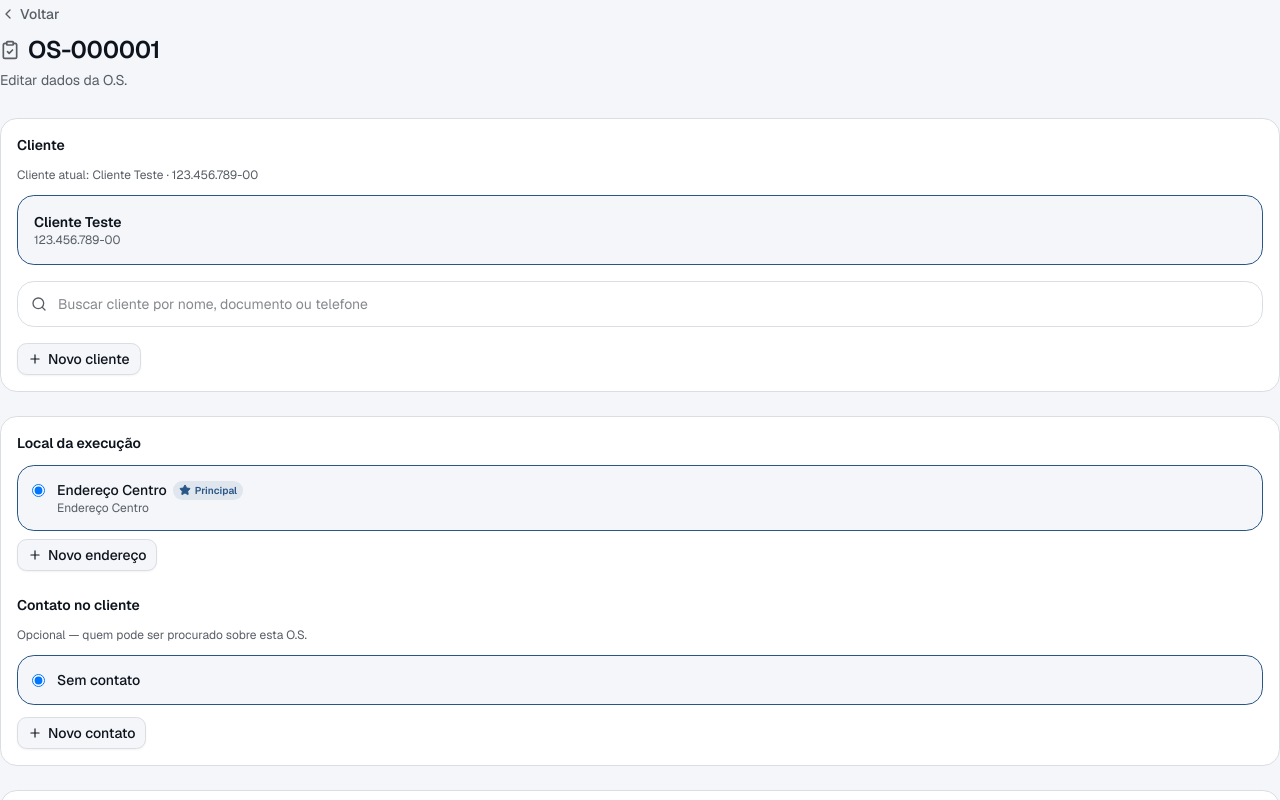
it: ServiceOrderEdit › Customer-detail ordering guarantees (bug #3 hardening) › CDO2: selecting C right after B (before B resolves) applies only C — B resolving after is discarded
expect the radio button labelled "Endereço Centro Principal Endereço Centro" is shown: met, box top-left (32, 484), bottom-right (45, 497)
Type "Cliente" into the dropdown labelled "Buscar cliente por nome, documento ou telefone". click: (640, 304)
box: top-left (17, 281), bottom-right (1263, 327)
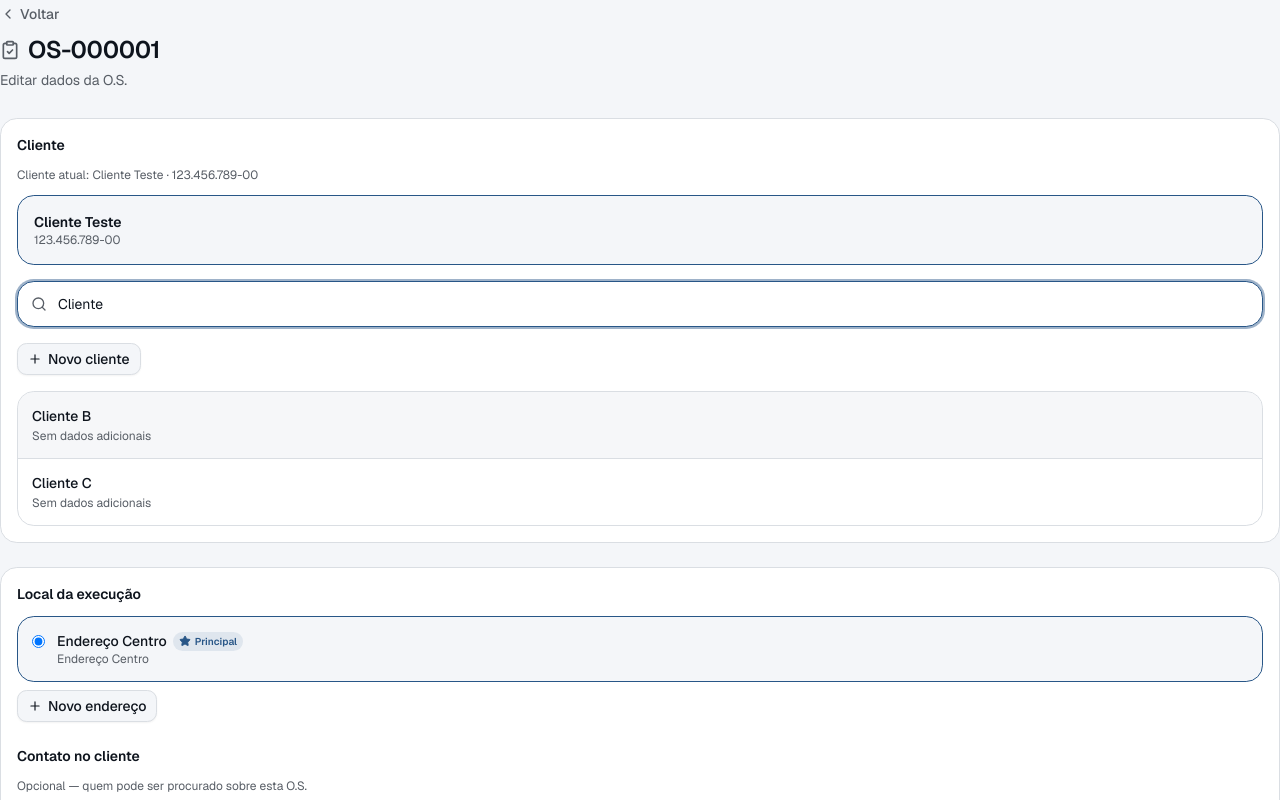
expect the text "Cliente B" is shown: met
Click the text "Cliente B". click: (62, 416)
box: top-left (32, 406), bottom-right (91, 426)
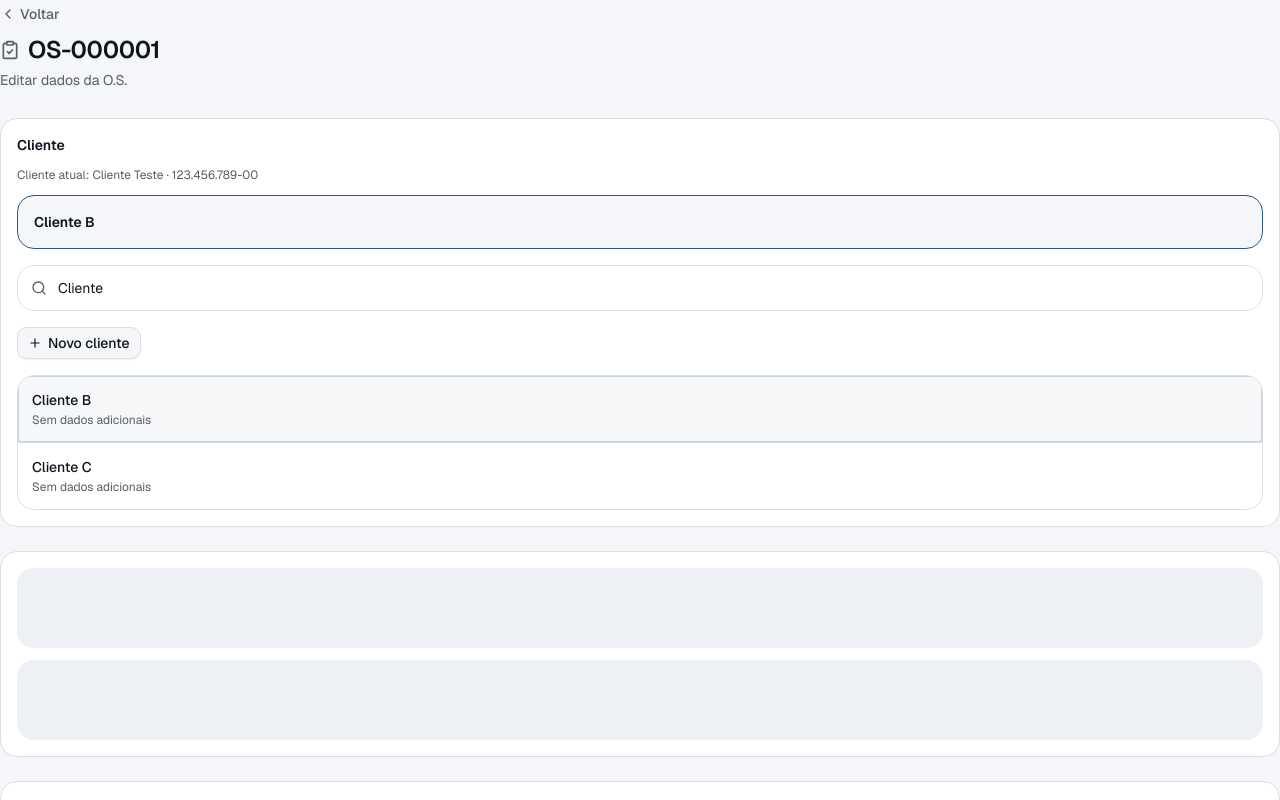
Click the text "Cliente C". click: (62, 467)
box: top-left (32, 457), bottom-right (92, 477)
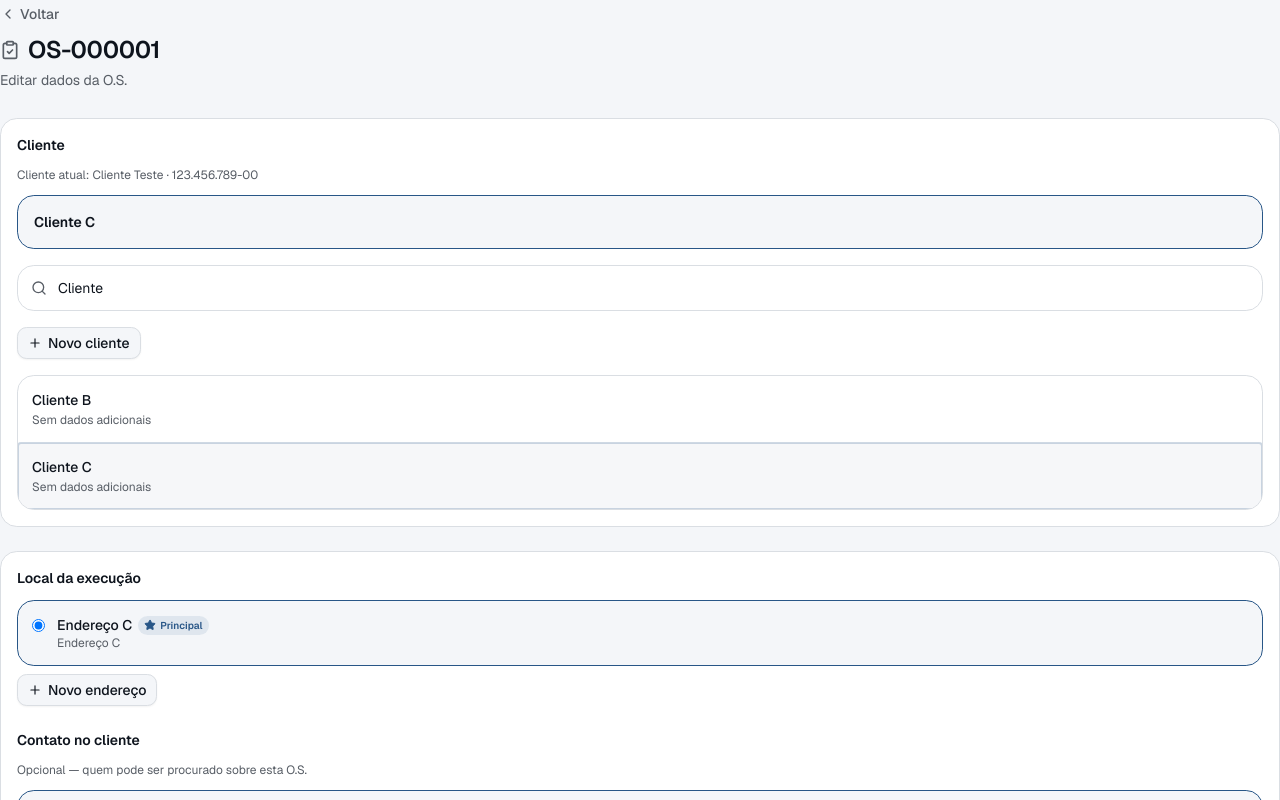
expect the radio button labelled "Endereço C Principal Endereço C" is checked: met, box top-left (32, 619), bottom-right (45, 632)
